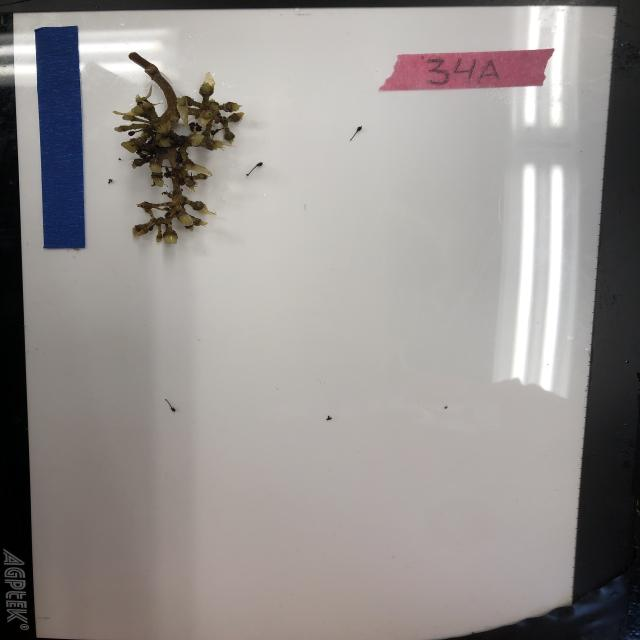index: (378, 48, 560, 93)
measure_label: (33, 23, 86, 250)
rachis_cluster: (110, 48, 247, 247)
